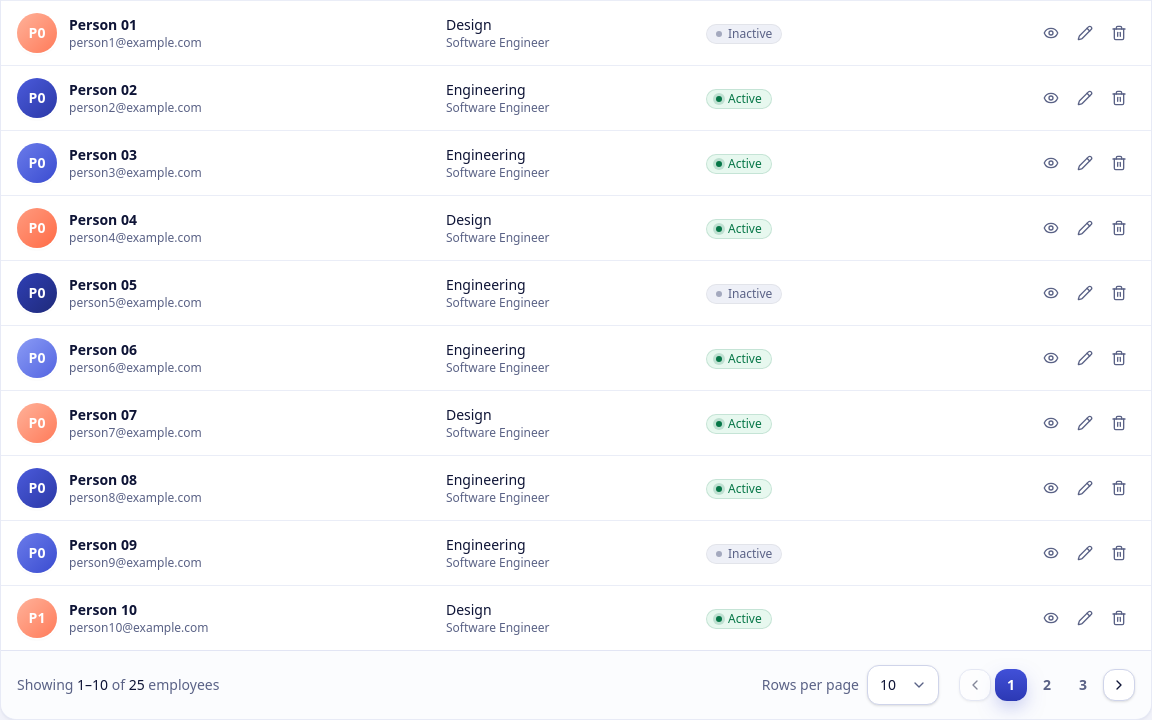
Test case: <EmployeeDirectory> › paginates on the server and keeps the page count consistent
The image size is (1152, 720).
(page scrolled)
Expected: the text "1–10" is shown, [77, 674, 108, 694]
What coordinates should you click on to do the following:
click the button named "Next page"
I would click on:
 (1119, 684)
Its box is [1103, 668, 1135, 700].
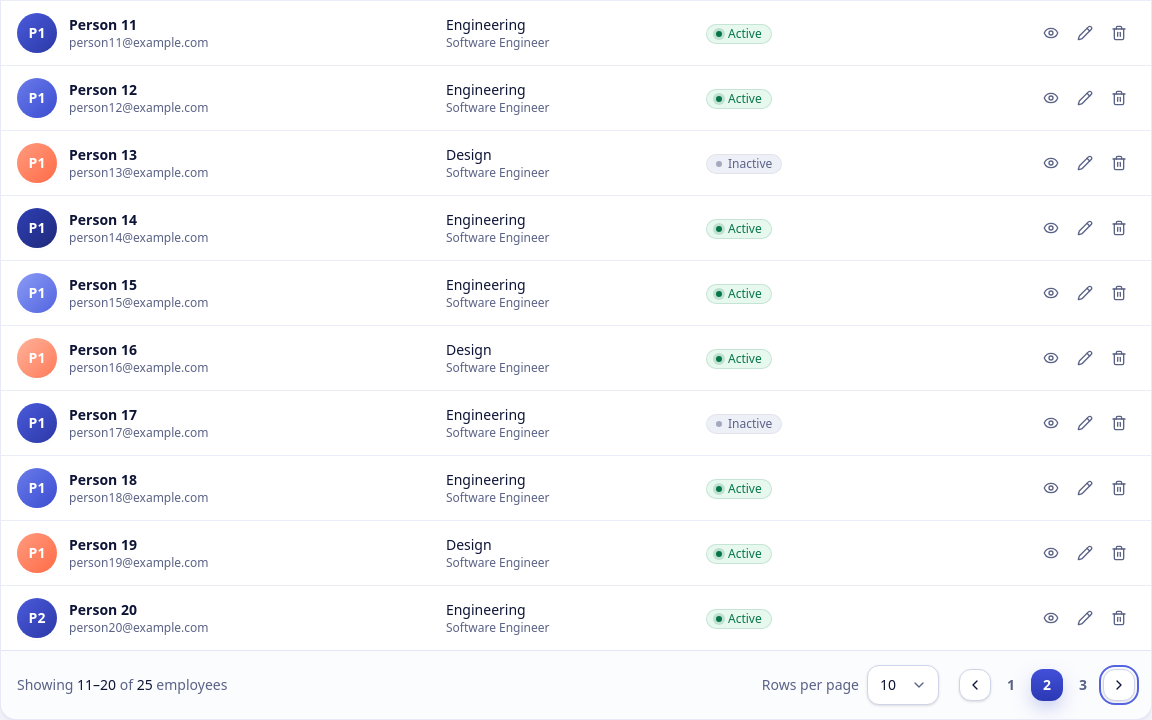
Result: the text "11–20" is shown at [77, 674, 116, 694]
What coordinates should you click on to do the following:
click the button named "Page 3"
I would click on:
 (1083, 684)
Its box is [1067, 668, 1099, 700].
(page scrolled)
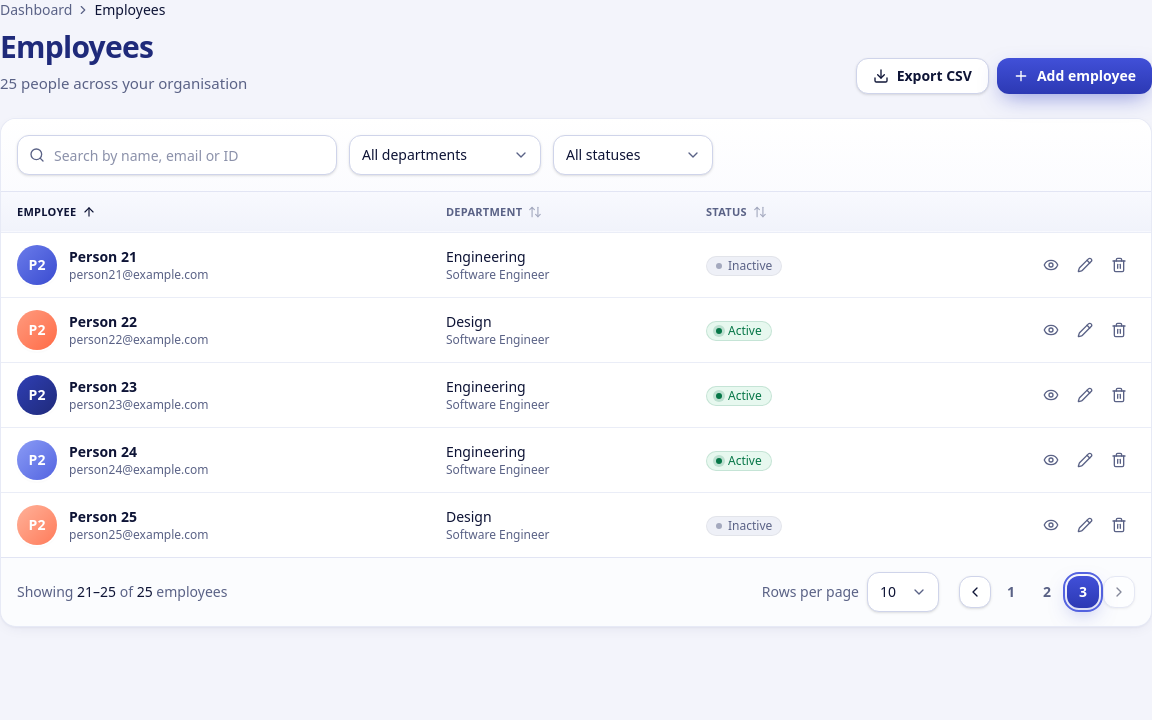
Result: the text "21–25" is shown at [77, 582, 116, 600]
Result: the number of rows with test id "employee-row" is 5 at [1, 232, 1151, 297]; [1, 297, 1151, 362]; [1, 362, 1151, 427]; [1, 427, 1151, 492]; [1, 492, 1151, 556]
Result: the button named "Next page" is disabled at [1103, 576, 1135, 608]
